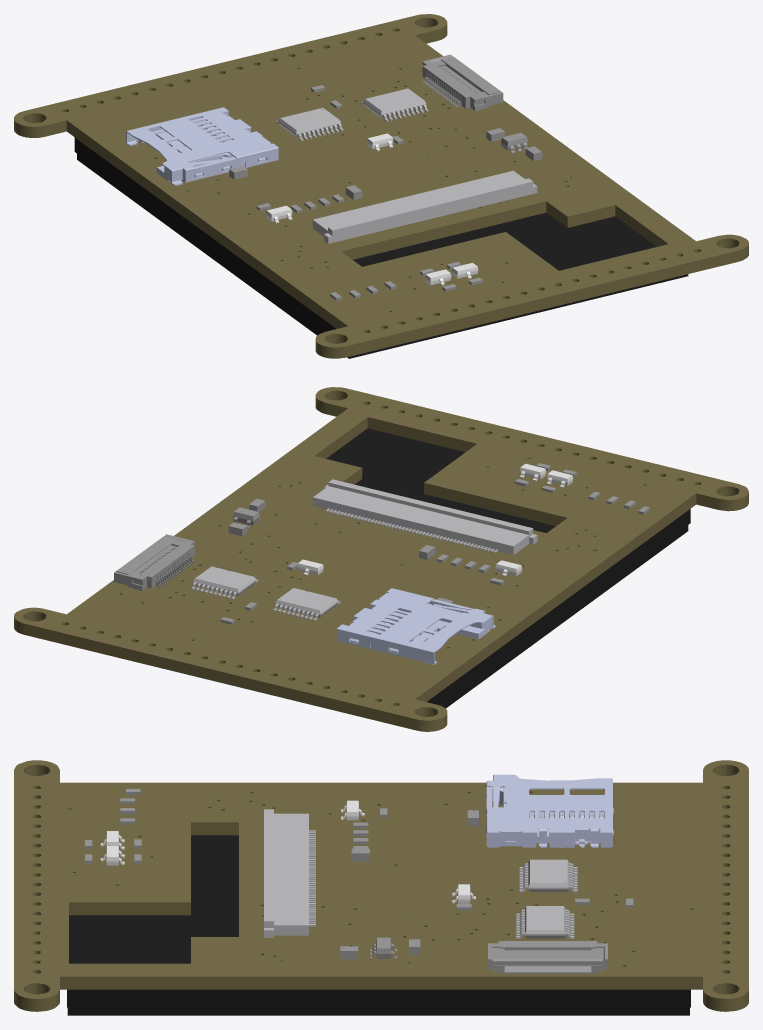
Rendered from ada-2090.glb.
3 renders of one model, top to bottom at view 1: azimuth 30°, elevation 25°; view 2: azimuth 150°, elevation 25°; view 3: azimuth 270°, elevation 25°, orthographic. The views are drawn at different scales.
Parts seen in each view (by area): view 1: 0.16666666666666666_0.16666666666666666_0.08333333333333333_, 0_0_0_0, 0.5833333333333334_0.5833333333333334_0.5833333333333334_0.8, 0.5833333333333334_0.6666666666666666_0.8333333333333334_0, 0.3333333333333333_0.3333333333333333_0.3333333333333333_0, 0.9166666666666666_0.9166666666666666_0.9166666666666666_0.8; view 2: 0.16666666666666666_0.16666666666666666_0.08333333333333333_, 0_0_0_0, 0.5833333333333334_0.5833333333333334_0.5833333333333334_0.8, 0.5833333333333334_0.6666666666666666_0.8333333333333334_0, 0.3333333333333333_0.3333333333333333_0.3333333333333333_0, 0.9166666666666666_0.9166666666666666_0.9166666666666666_0.8; view 3: 0.16666666666666666_0.16666666666666666_0.08333333333333333_, 0_0_0_0, 0.5833333333333334_0.5833333333333334_0.5833333333333334_0.8, 0.5833333333333334_0.6666666666666666_0.8333333333333334_0, 0.3333333333333333_0.3333333333333333_0.3333333333333333_0, 0.9166666666666666_0.9166666666666666_0.9166666666666666_0.8.
Part boxes in pixels (x1,y1,x2,y2): 0.16666666666666666_0.16666666666666666_0.08333333333333333_: [14, 14, 748, 358]; 0_0_0_0: [74, 137, 688, 358]; 0.5833333333333334_0.5833333333333334_0.5833333333333334_0.8: [276, 88, 537, 243]; 0.5833333333333334_0.6666666666666666_0.8333333333333334_0: [126, 107, 278, 185]; 0.3333333333333333_0.3333333333333333_0.3333333333333333_0: [229, 54, 542, 300]; 0.9166666666666666_0.9166666666666666_0.9166666666666666_0.8: [266, 133, 478, 285]; 0.16666666666666666_0.16666666666666666_0.08333333333333333_: [14, 387, 748, 731]; 0_0_0_0: [326, 428, 690, 708]; 0.5833333333333334_0.5833333333333334_0.5833333333333334_0.8: [191, 479, 537, 621]; 0.5833333333333334_0.6666666666666666_0.8333333333333334_0: [337, 588, 495, 664]; 0.3333333333333333_0.3333333333333333_0.3333333333333333_0: [114, 463, 649, 624]; 0.9166666666666666_0.9166666666666666_0.9166666666666666_0.8: [297, 463, 573, 576]; 0.16666666666666666_0.16666666666666666_0.08333333333333333_: [14, 760, 748, 1011]; 0_0_0_0: [67, 835, 690, 1015]; 0.5833333333333334_0.5833333333333334_0.5833333333333334_0.8: [264, 809, 577, 938]; 0.5833333333333334_0.6666666666666666_0.8333333333333334_0: [486, 774, 613, 847]; 0.3333333333333333_0.3333333333333333_0.3333333333333333_0: [85, 789, 633, 973]; 0.9166666666666666_0.9166666666666666_0.9166666666666666_0.8: [100, 800, 475, 903].
Size of the model in its own units: 6.25 by 0.6948 by 8.13.
